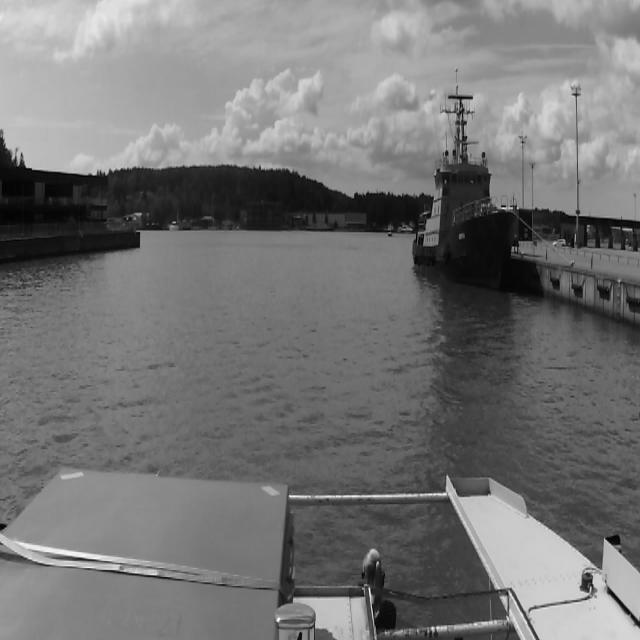ship: (411, 71, 513, 285), (166, 221, 180, 231), (388, 232, 392, 237)
